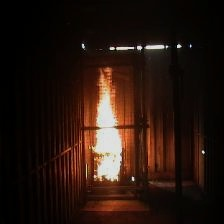fire: (89, 67, 124, 183)
